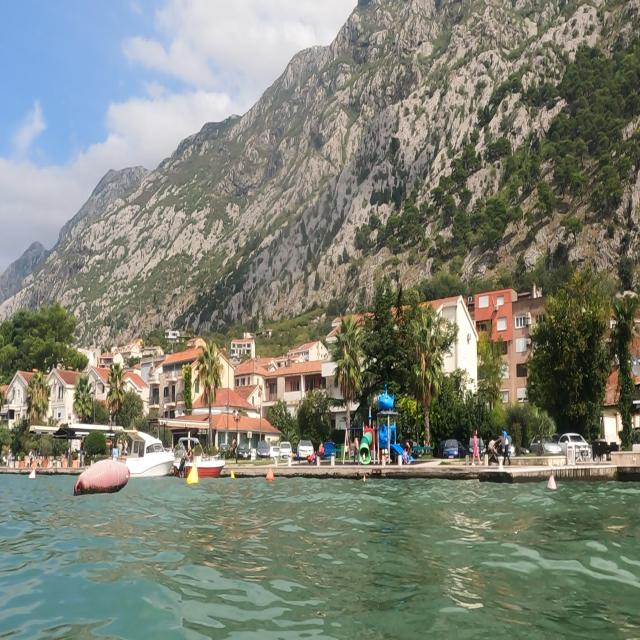boat: (110, 414, 183, 496), (174, 426, 228, 486)
buoy: (68, 454, 139, 504), (184, 459, 204, 488), (544, 477, 560, 500)
